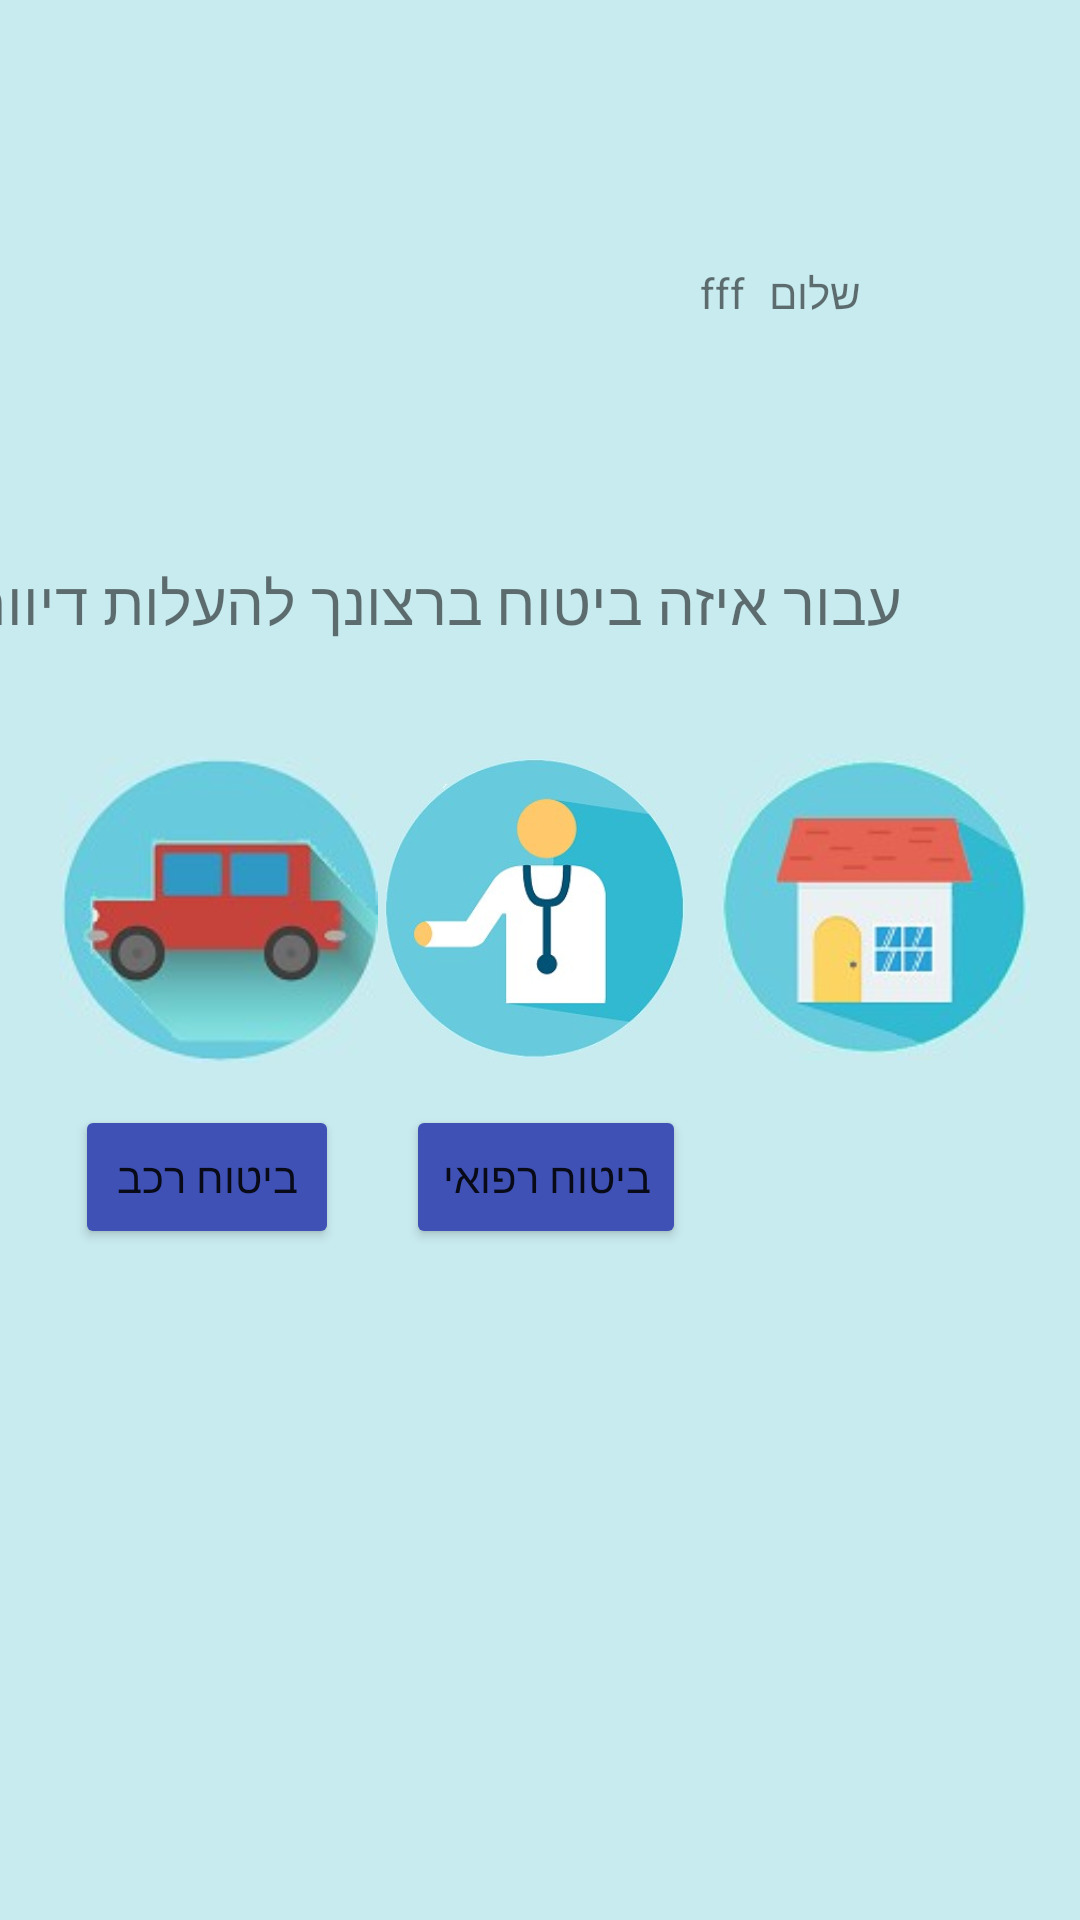

Where to tap for icons on this 1080w x 1920h app screen, as (x,y):
doc: (534,908)
